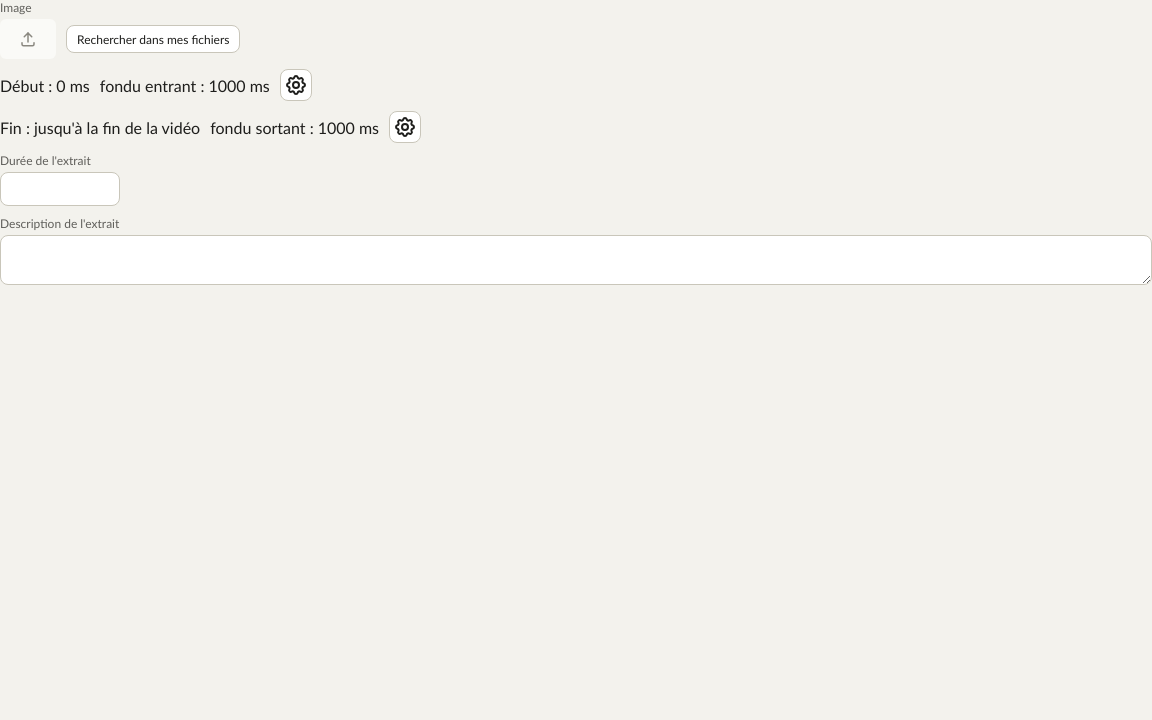
Scenario: DubbingVideoStep component › closes the popin when its close button is clicked
This screenshot has width=1152, height=720.
Click the button named "Configurer le début de l'extrait": (296, 85) [280,69,312,101]
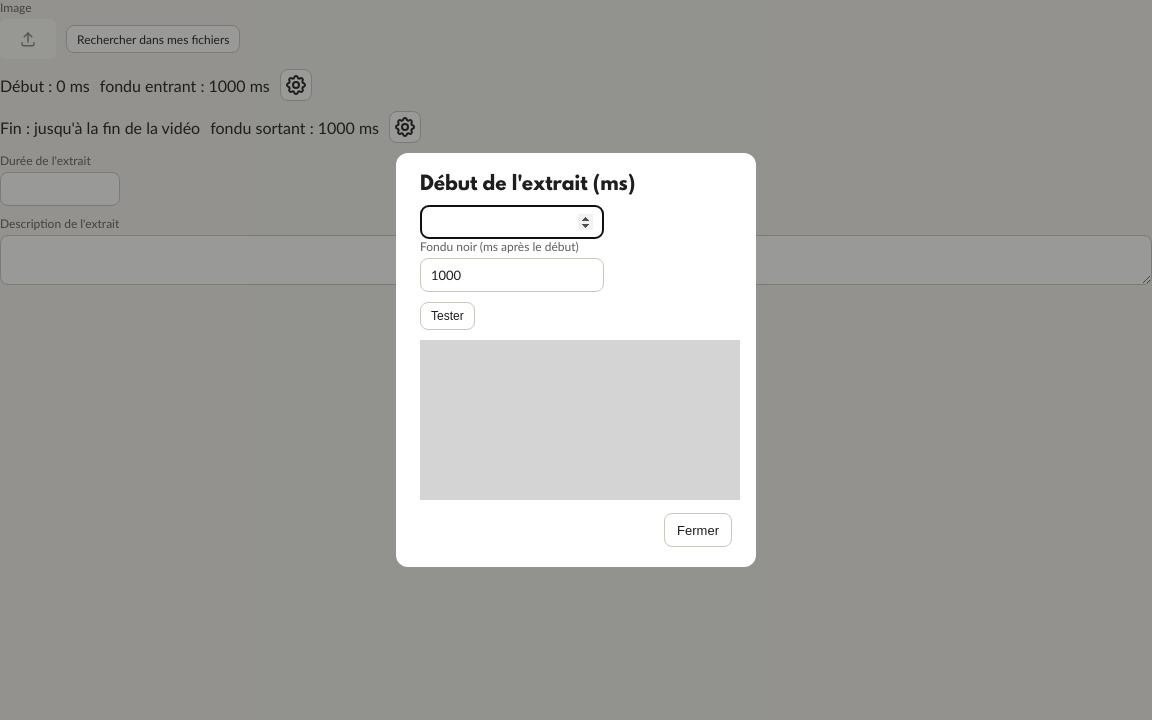
Result: the dialog is shown at [396,153,756,567]
Click the button "Fermer": (698, 530) [664,513,732,547]
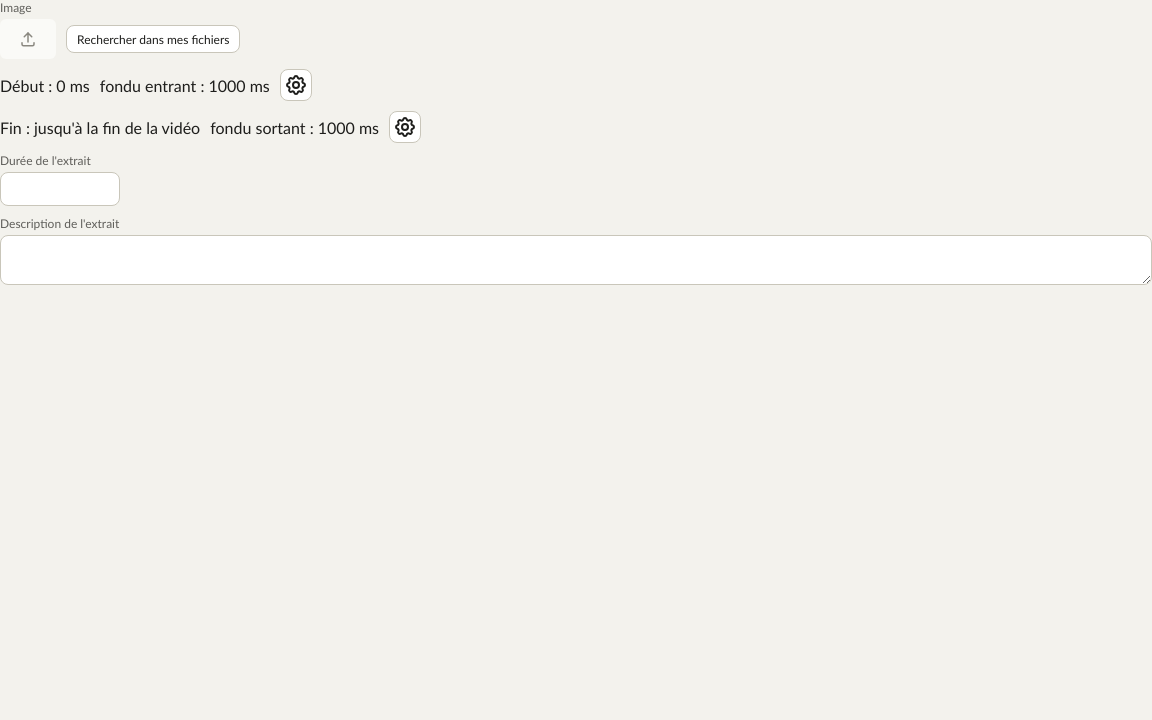
Result: the dialog is gone
